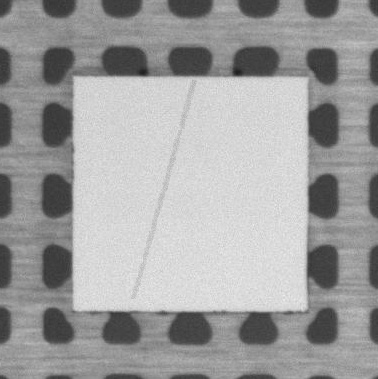DIE_CRACK: (134, 82, 193, 298)
